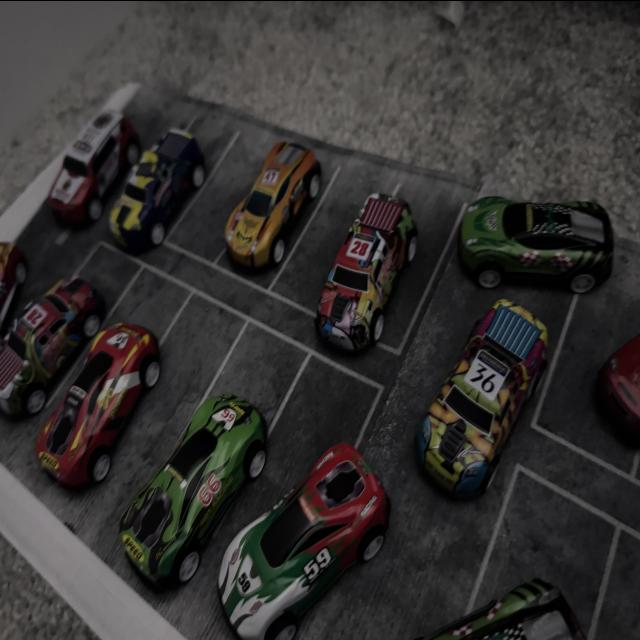car: (108, 370, 253, 632), (216, 414, 378, 640), (202, 76, 334, 320), (100, 66, 230, 274), (441, 178, 640, 312), (304, 156, 422, 376), (48, 304, 170, 516), (408, 308, 528, 500), (0, 245, 119, 435), (407, 544, 603, 640), (17, 103, 108, 231), (593, 284, 640, 464), (0, 235, 36, 382)
